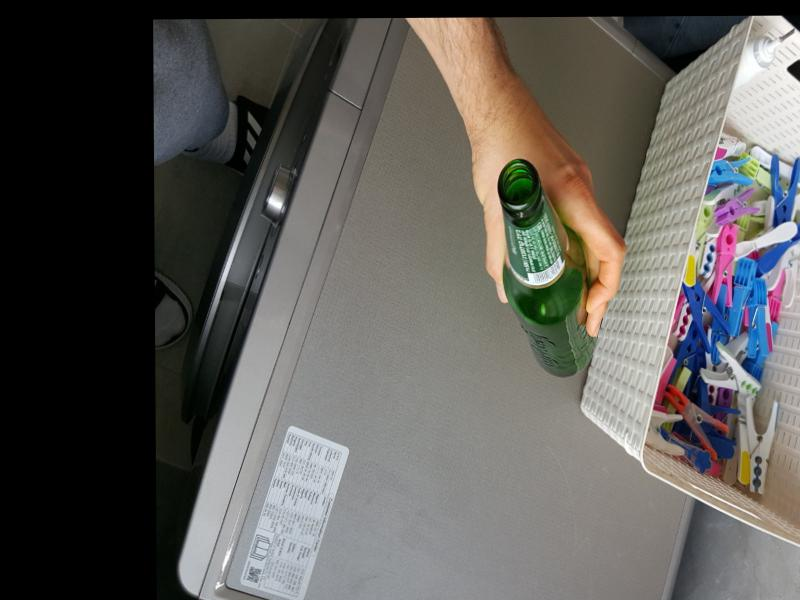Beer: (496, 159, 600, 376)
